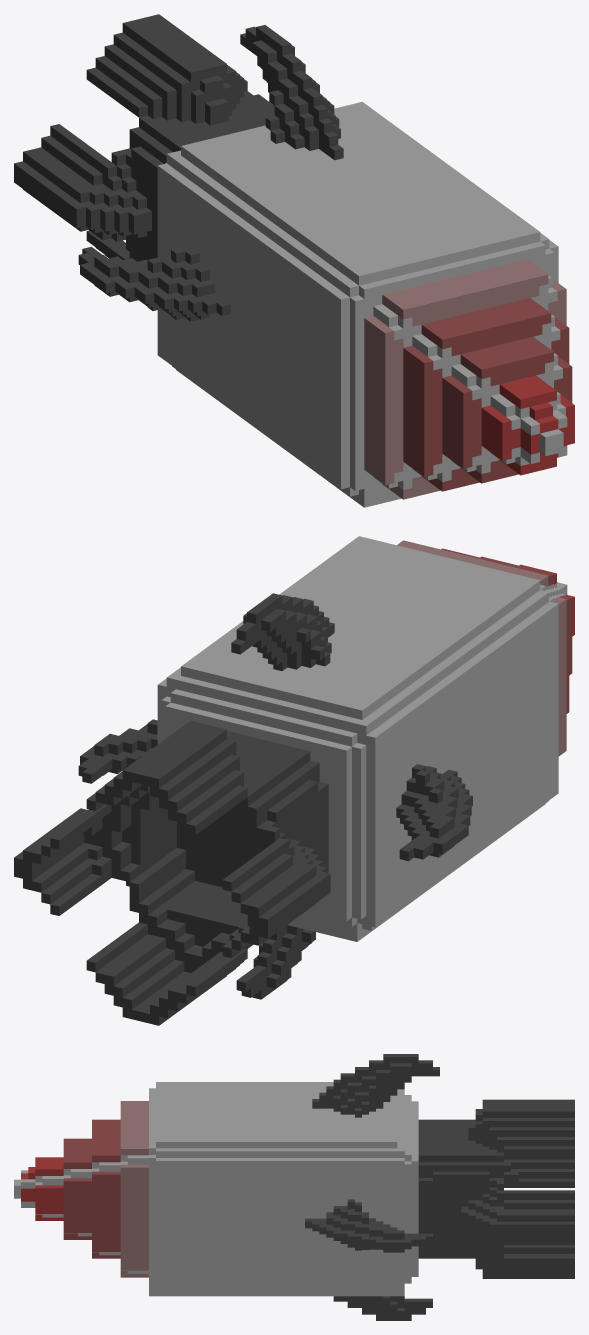
The model's file is JokerWarriror-9.obj.
3 views of the same model, one above another, from view 1: azimuth 30°, elevation 25°; view 2: azimuth 150°, elevation 25°; view 3: azimuth 270°, elevation 25° (orthographic). The views are drawn at different scales.
Bounding box in the file's own units: 4 × 4.1 × 7.9.
Materials: 1 (1 with a texture image).
